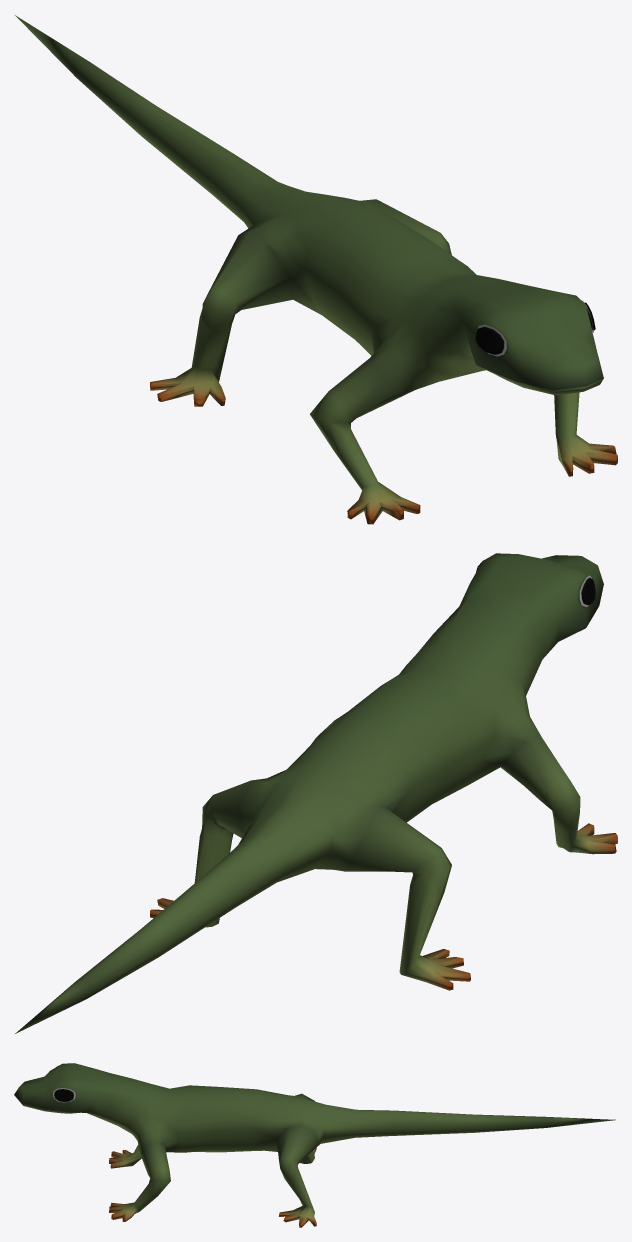
Rendered from gecko.obj.
3 renders of one model, top to bottom at view 1: azimuth 30°, elevation 25°; view 2: azimuth 150°, elevation 25°; view 3: azimuth 270°, elevation 25°, orthographic. The views are drawn at different scales.
Parts seen in each view (by area): view 1: base.144_Mesh.005; view 2: base.144_Mesh.005; view 3: base.144_Mesh.005.
Part boxes in pixels (bbox=[...]): base.144_Mesh.005: bbox=[15, 15, 617, 524]; base.144_Mesh.005: bbox=[15, 553, 617, 1033]; base.144_Mesh.005: bbox=[14, 1063, 615, 1227].
Size of the model in its own units: 0.2722 by 0.1843 by 0.8659.
1 material, 1 textured.
